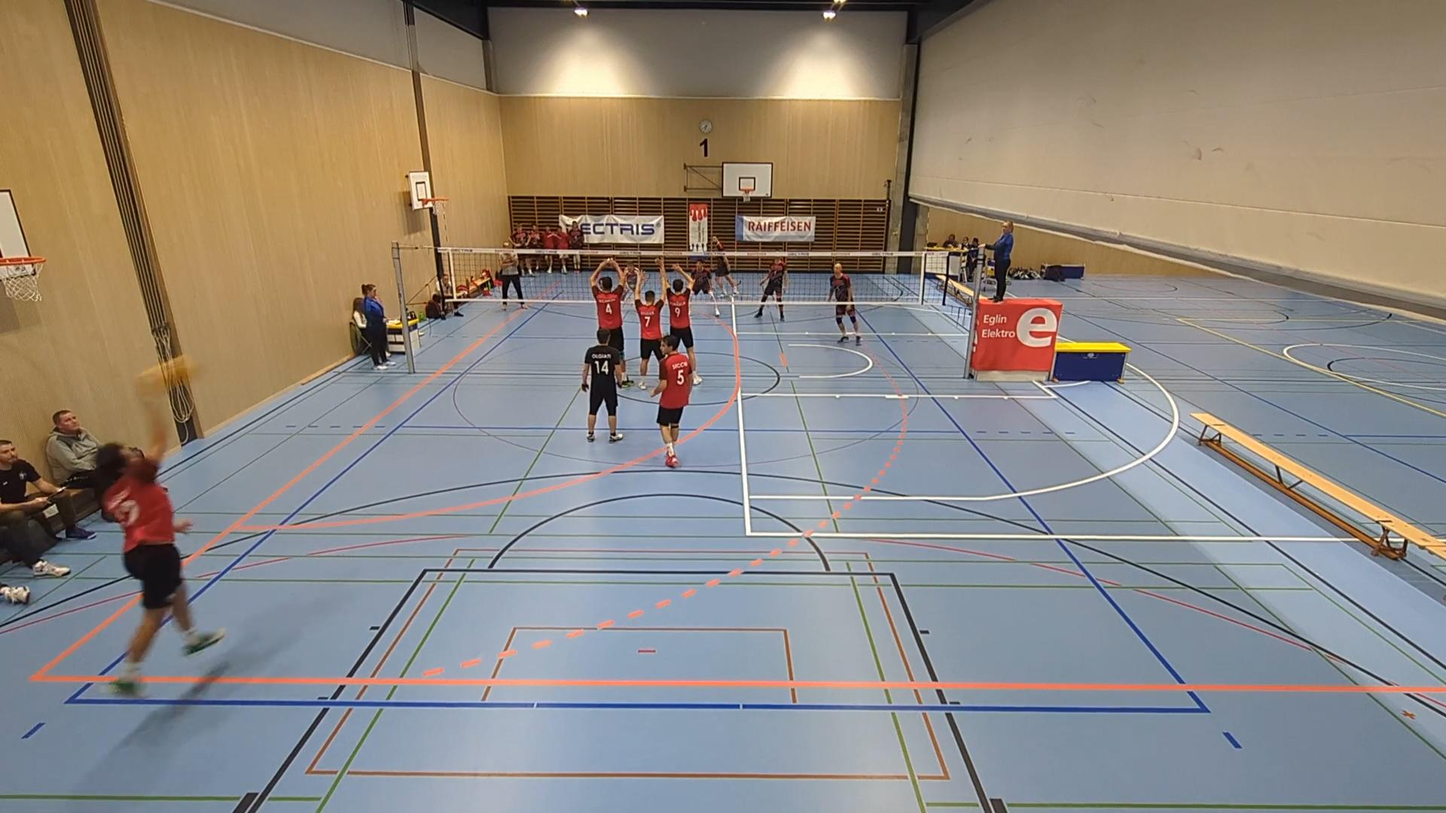Player: (590, 258, 632, 387), (653, 336, 693, 467), (581, 328, 623, 442), (666, 264, 701, 385), (633, 276, 664, 385), (828, 263, 861, 344), (755, 258, 787, 320), (690, 259, 720, 317), (713, 254, 737, 300)
Serve: (93, 390, 227, 706)
ball: (161, 354, 198, 379)
